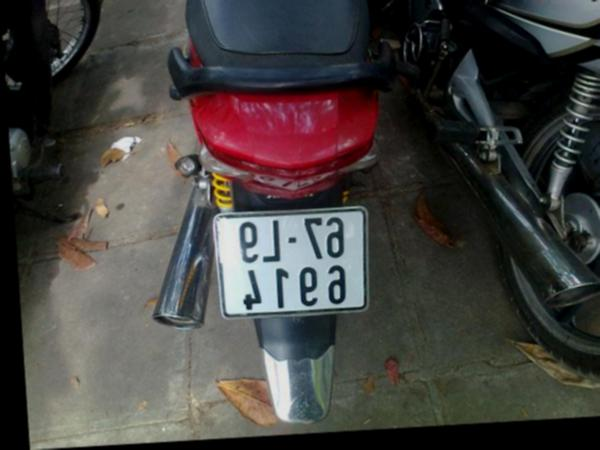License_Plate: (213, 206, 370, 322)
